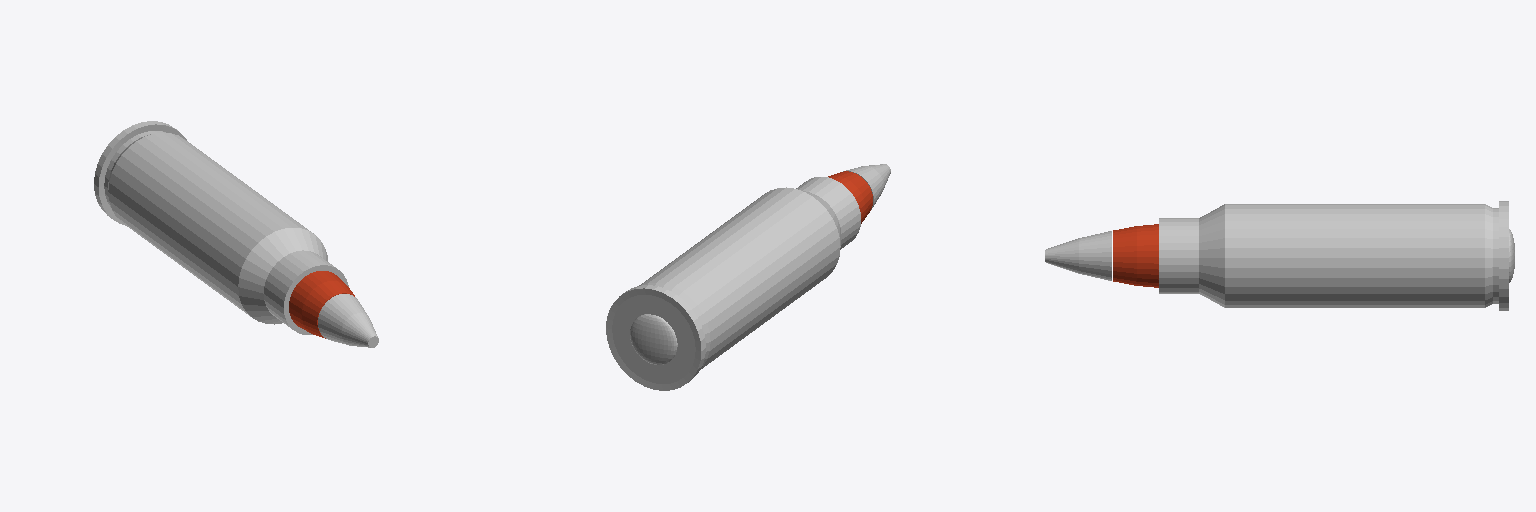
The model's file is bullet.obj.
3 views of the same model, side by side, from view 1: azimuth 30°, elevation 25°; view 2: azimuth 150°, elevation 25°; view 3: azimuth 270°, elevation 25° (orthographic).
Visible parts, largest first — view 1: Cylinder, Cone, Cylinder.001; view 2: Cylinder, Sphere, Cylinder.001, Cone; view 3: Cylinder, Cylinder.001, Cone.
Boxes of the visible parts, box(x1,y1,x2,y2) form: Cylinder: box(94, 121, 348, 334); Cone: box(318, 294, 378, 347); Cylinder.001: box(289, 271, 354, 338); Cylinder: box(606, 177, 860, 390); Sphere: box(630, 314, 677, 364); Cylinder.001: box(828, 171, 872, 223); Cone: box(843, 164, 890, 209); Cylinder: box(1159, 201, 1508, 310); Cylinder.001: box(1113, 224, 1158, 287); Cone: box(1045, 231, 1111, 280).
Bounding box in the file's own units: 2.11 × 2.11 × 9.03.